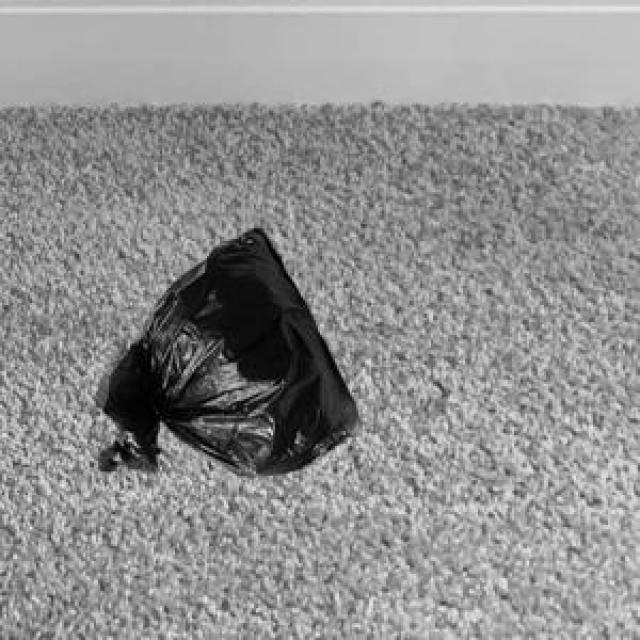miscellaneous trash: (92, 224, 358, 472)
